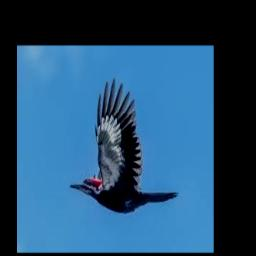Woodpecker: (69, 78, 179, 213)
